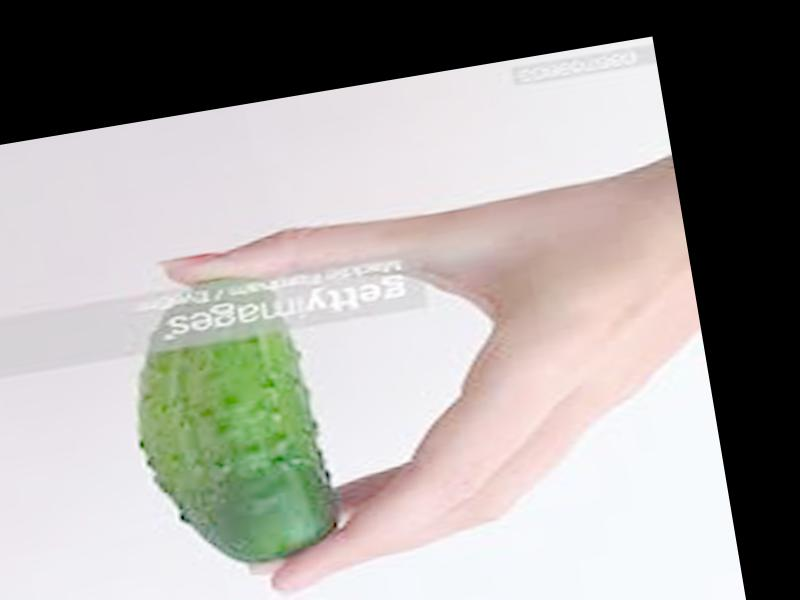Cucumber: (113, 265, 341, 580)
